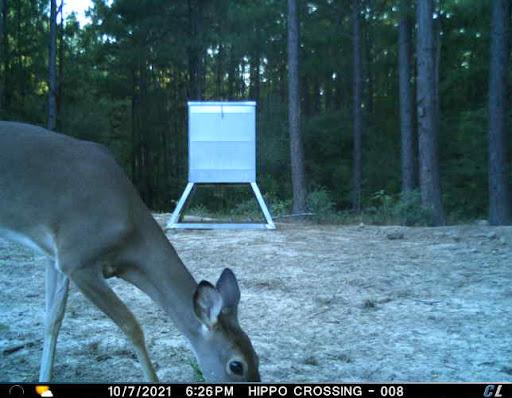Deer: (0, 116, 267, 384)
